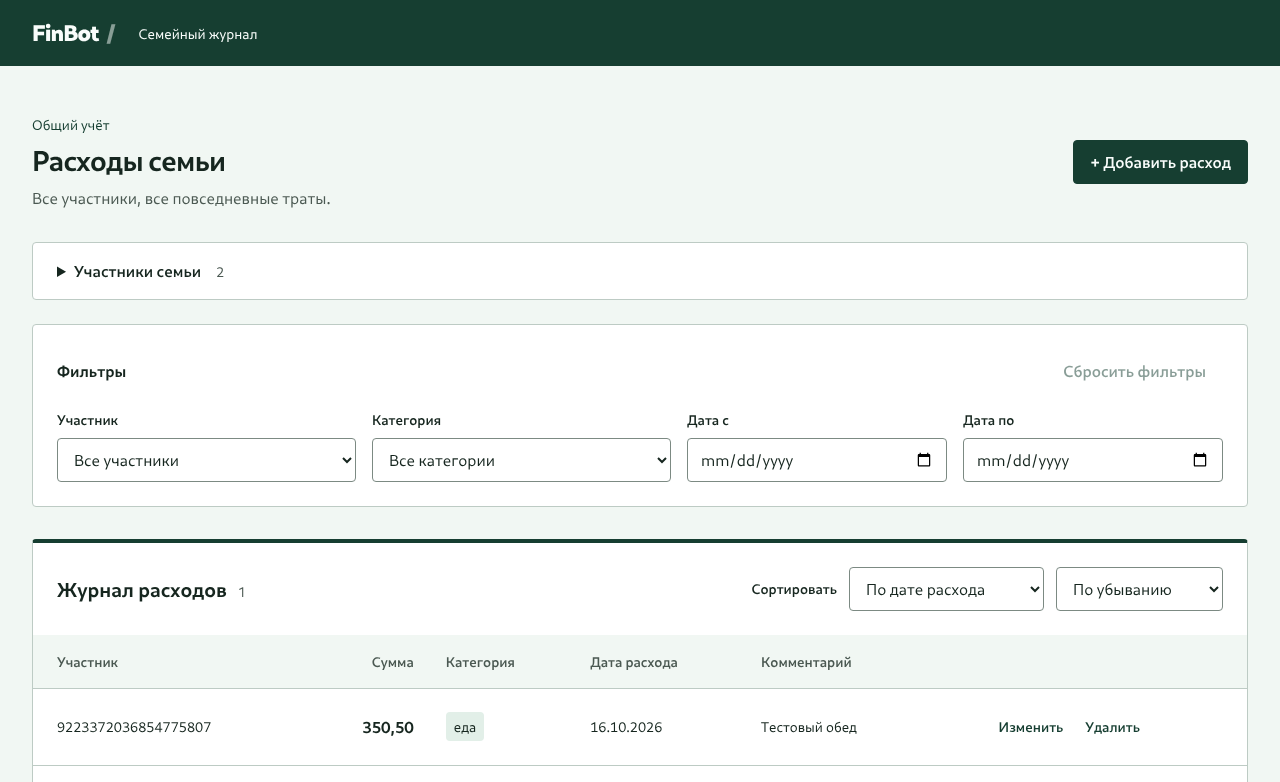
Test: expense journal › shows server field errors without losing input or falsely confirming a save
Check: the text "Тестовый обед" is shown, box [745,689,974,765]
Click the button "+ Добавить расход": (1161,162) [1073,140,1248,184]
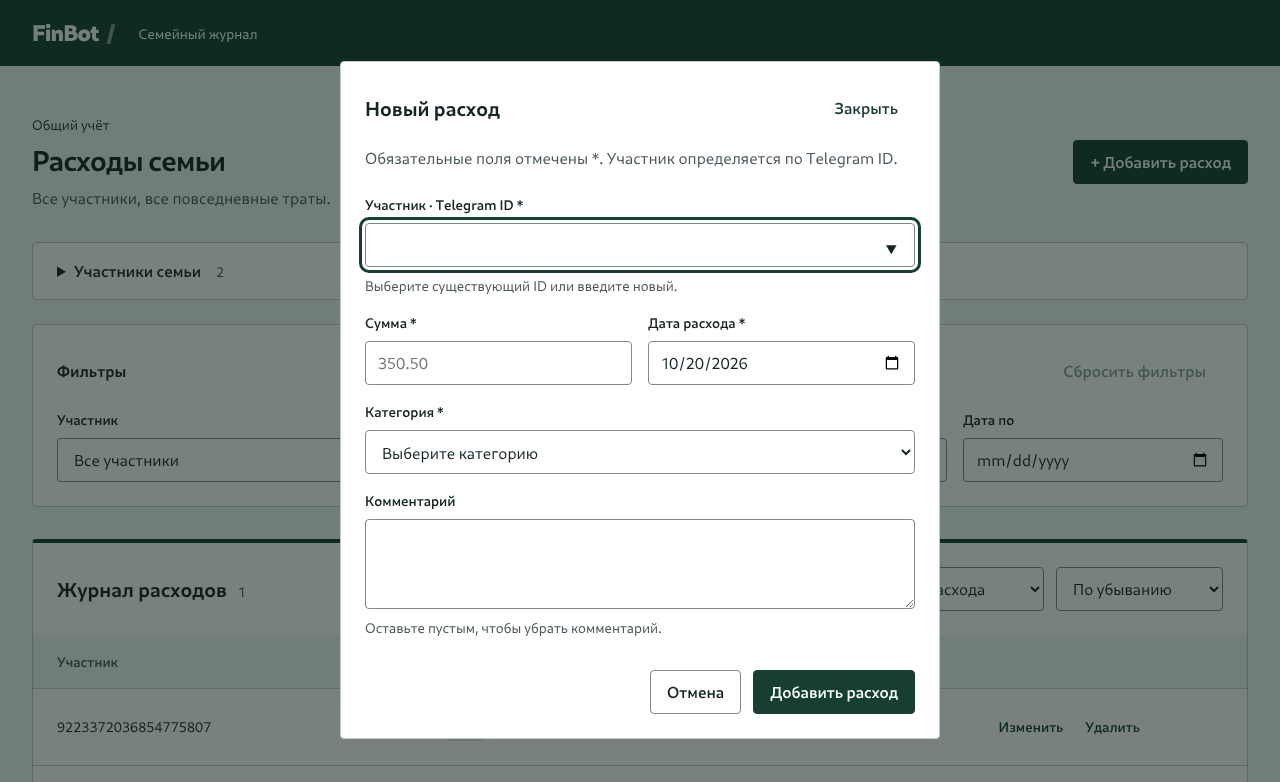
In the field labelled "Участник · Telegram ID *": (640,245) [365,223,915,267], type "303"
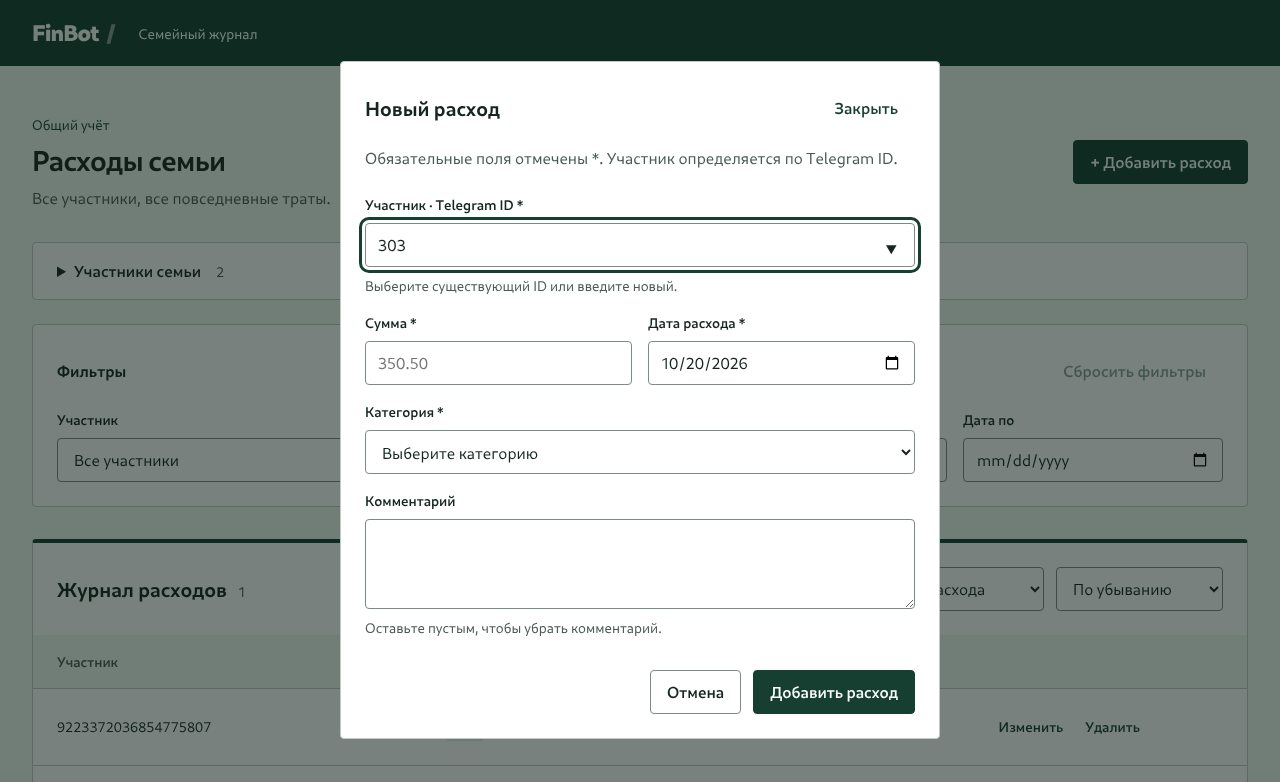
In the field labelled "Сумма *": (498,363) [365,341,632,385], type "999999999999.99"
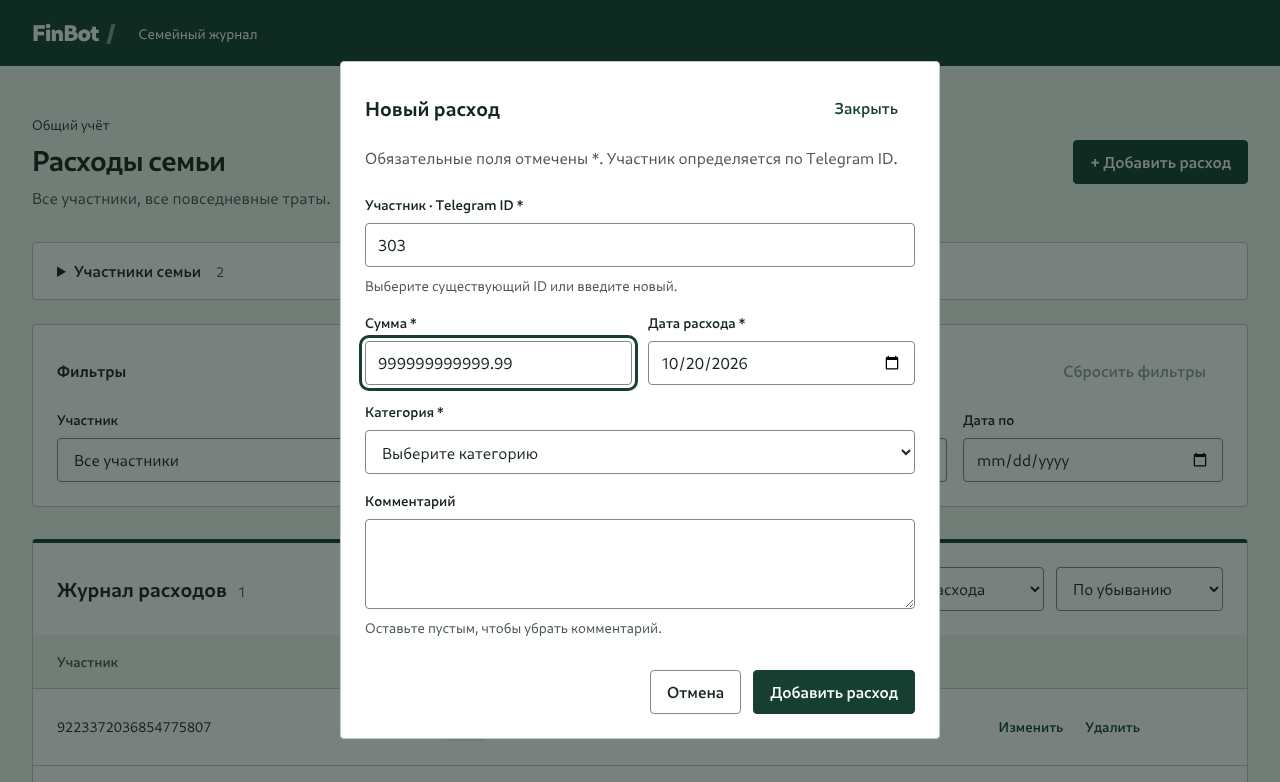
Select "транспорт" in the dropdown labelled "Категория *": (640,452) [365,430,915,474]
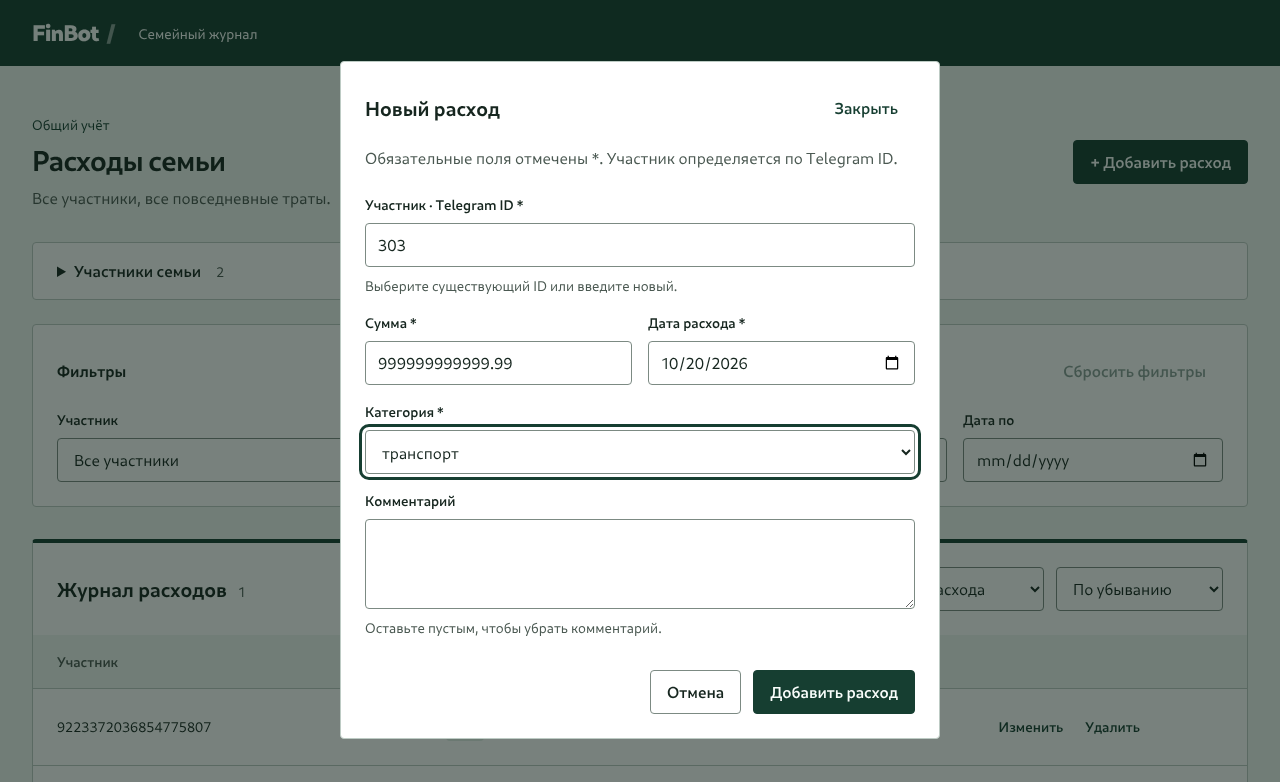
In the date field labelled "Дата расхода *": (782,363) [648,341,915,385], type "2024-02-29"
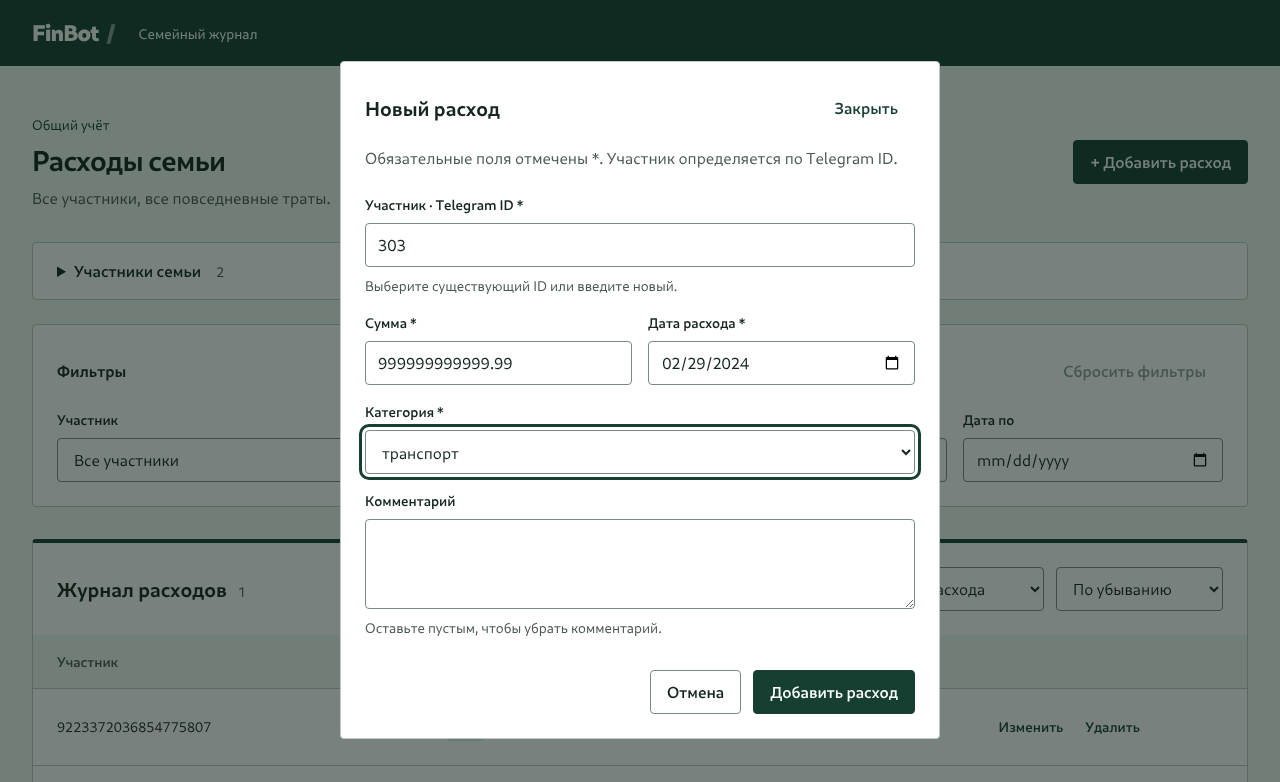
Click the button "Добавить расход": (834,692) [753,670,915,714]
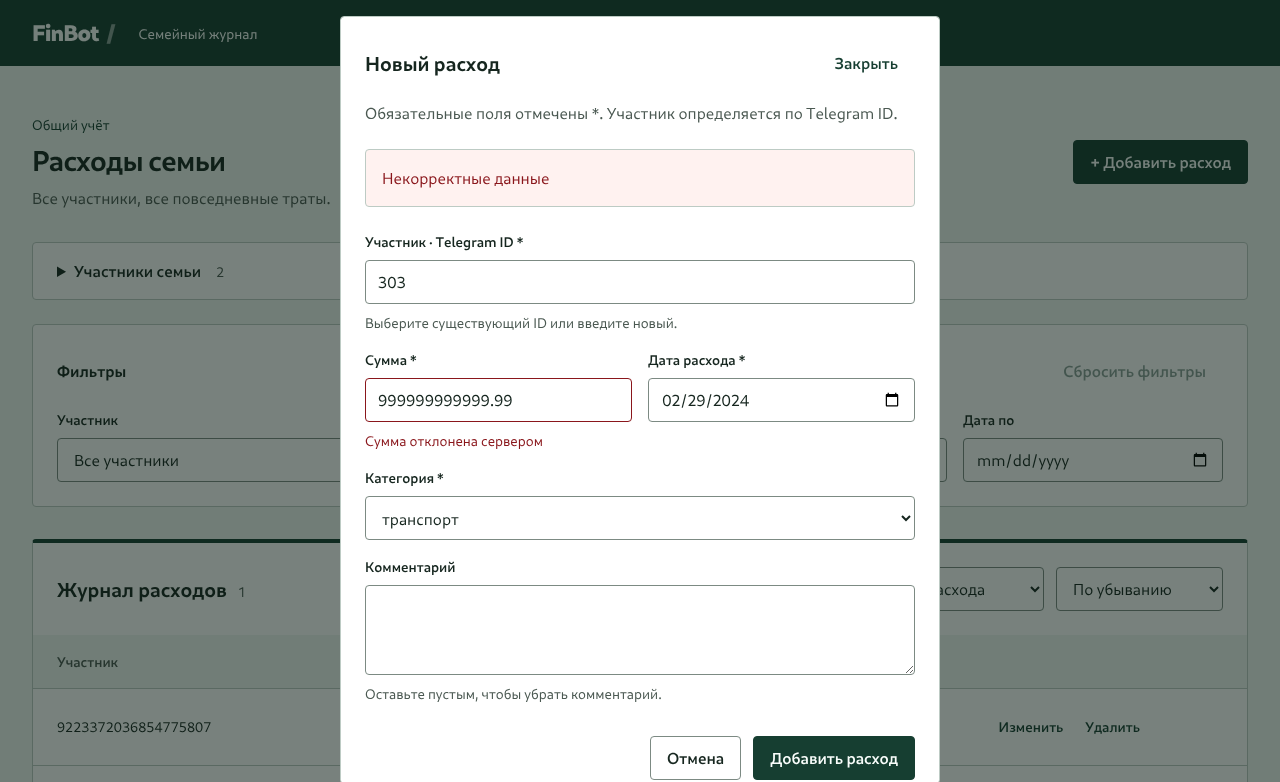
Check: the text "Сумма отклонена сервером" is shown, box [365,432,543,449]
